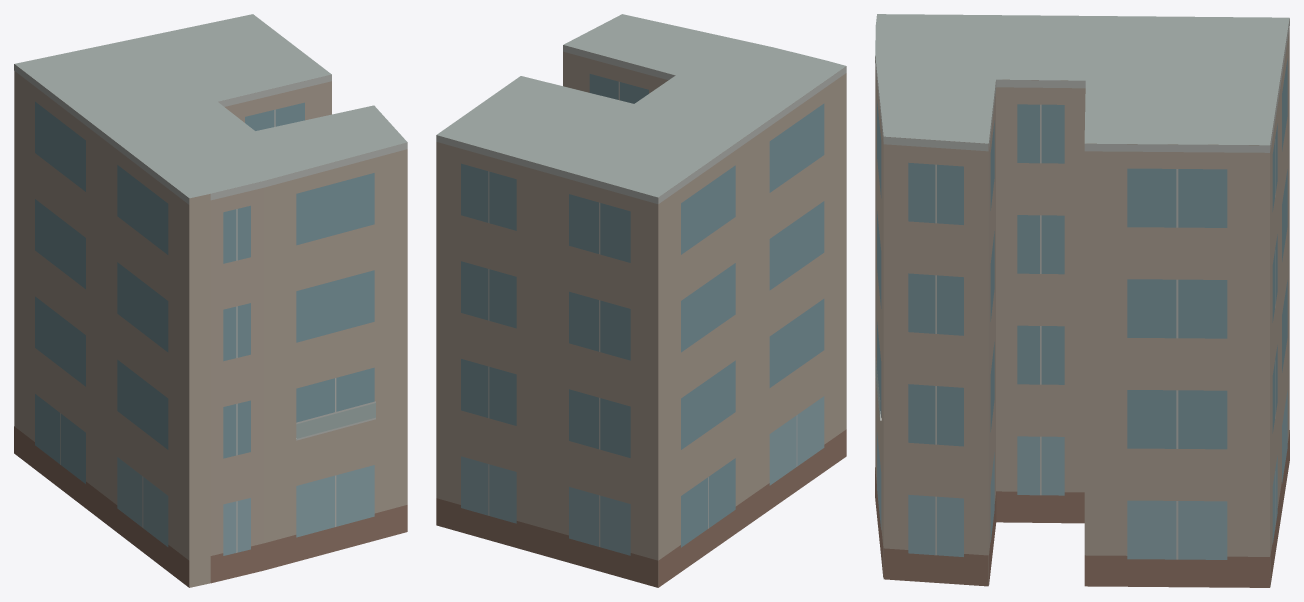
The model's file is survey-upis-32894776.glb.
3 renders of one model, left to right at view 1: azimuth 30°, elevation 25°; view 2: azimuth 150°, elevation 25°; view 3: azimuth 270°, elevation 25°, orthographic. The views are drawn at different scales.
Visible parts, largest first — view 1: survey-upis-32894776.tmp; view 2: survey-upis-32894776.tmp; view 3: survey-upis-32894776.tmp.
Part boxes in pixels (bbox=[...]): survey-upis-32894776.tmp: bbox=[14, 14, 407, 587]; survey-upis-32894776.tmp: bbox=[436, 14, 846, 587]; survey-upis-32894776.tmp: bbox=[875, 14, 1289, 587].
Size of the model in its own units: 8.97 by 14.1 by 11.98.
